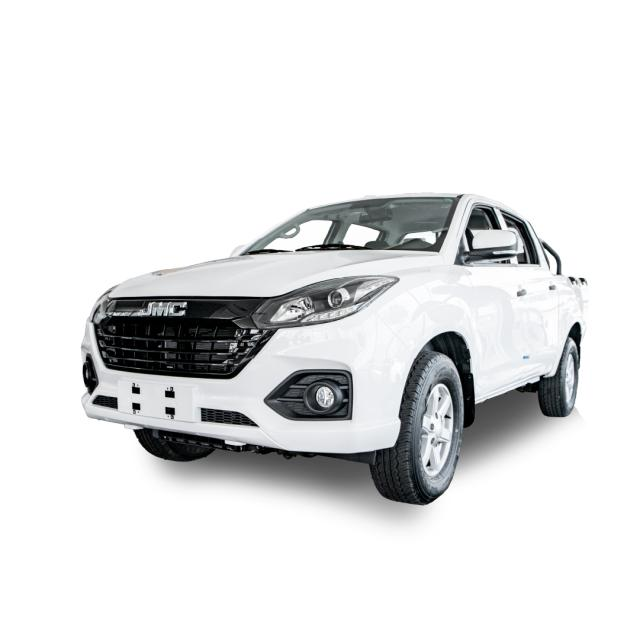CMT: (73, 188, 596, 490)
